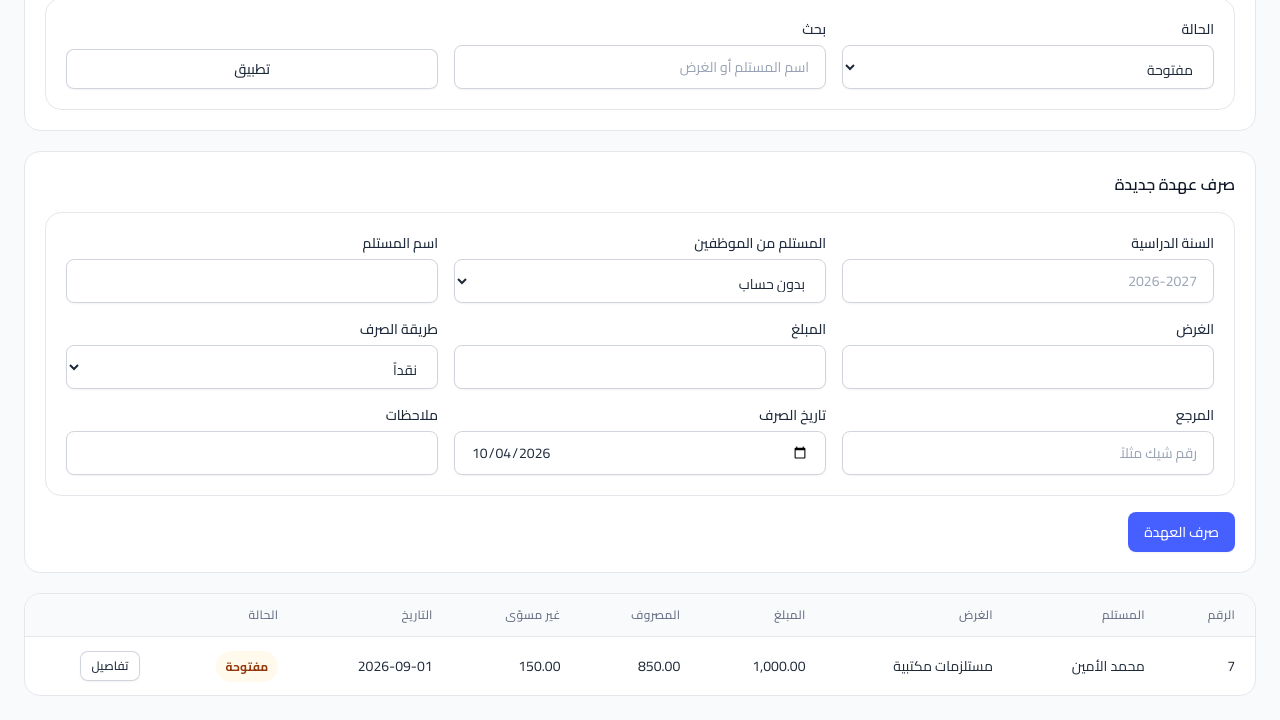
CashAdvances › shows what was spent against the advance
(page scrolled)
Step 1. Click the button "تفاصيل" → [110, 666], box [80, 651, 140, 681]
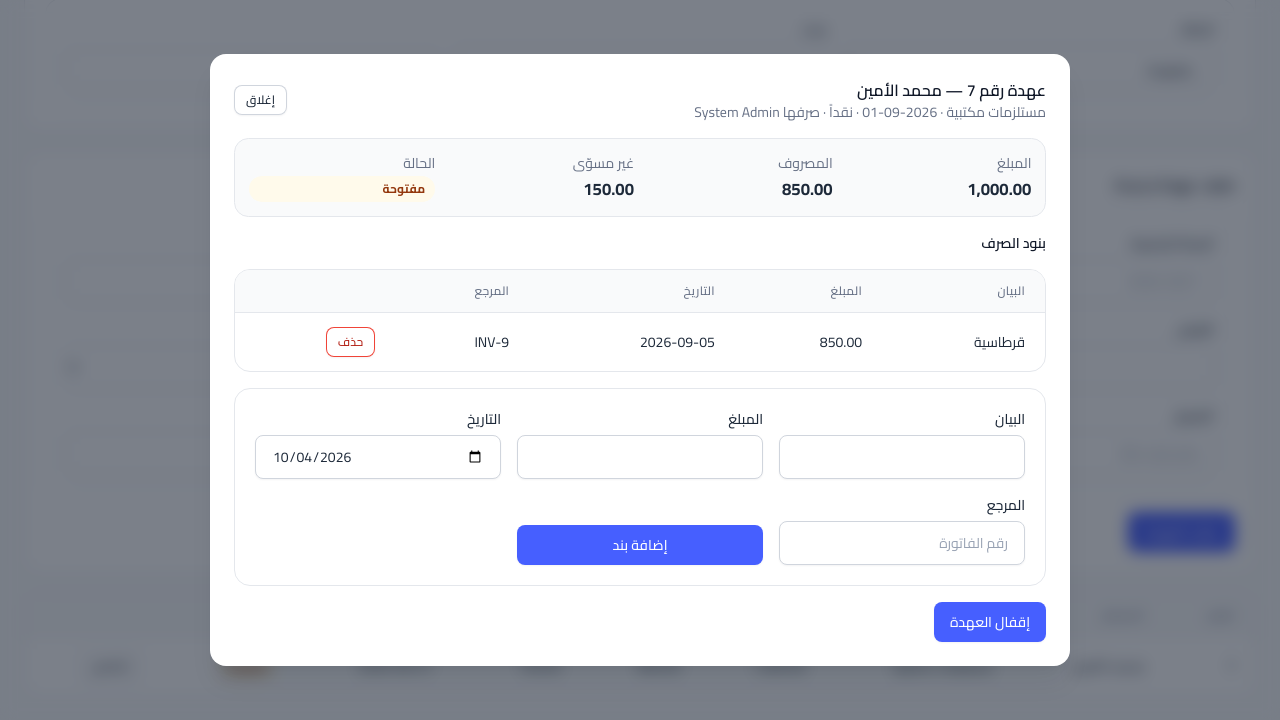
Check: the element with class "student-modal" shows "قرطاسية", box [974, 329, 1025, 355]
Check: the element with class "student-modal" shows "INV-9", box [474, 329, 509, 355]
